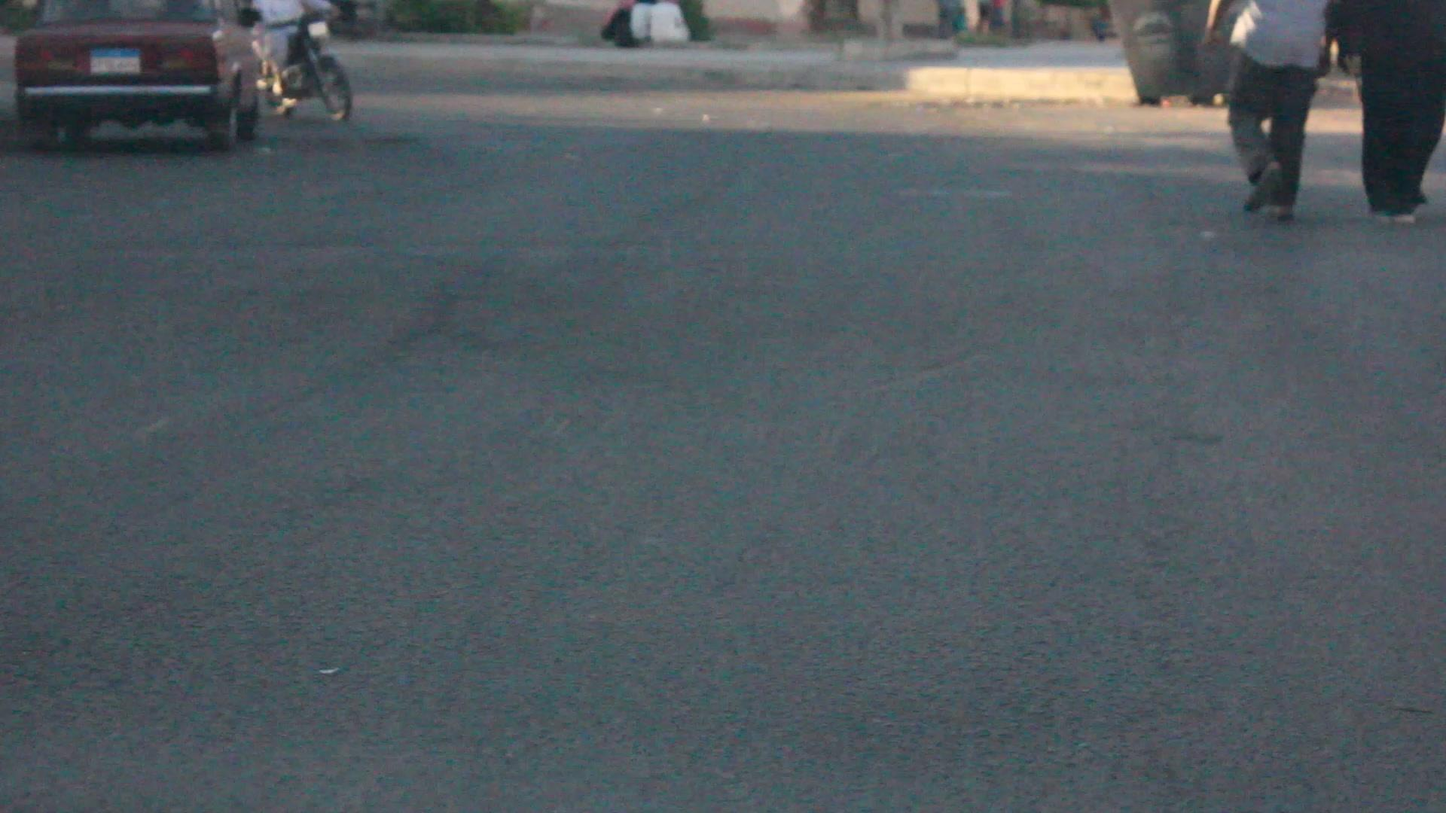Bump: (0, 238, 1445, 347)
